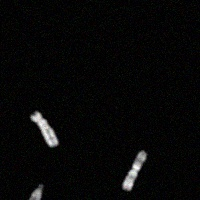chromosome: (30, 111, 58, 147), (123, 151, 147, 191), (28, 183, 44, 200)
